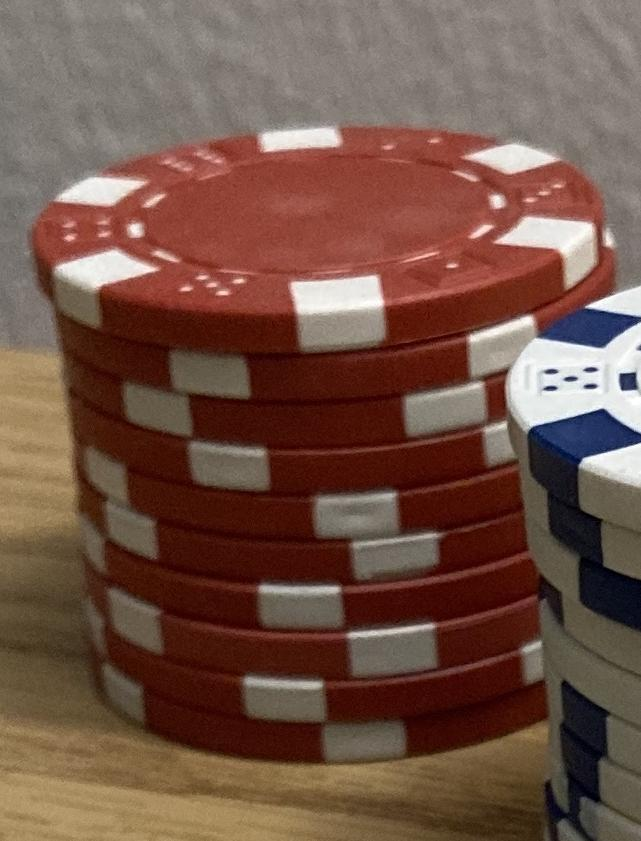Chip: (1, 1, 641, 841)
